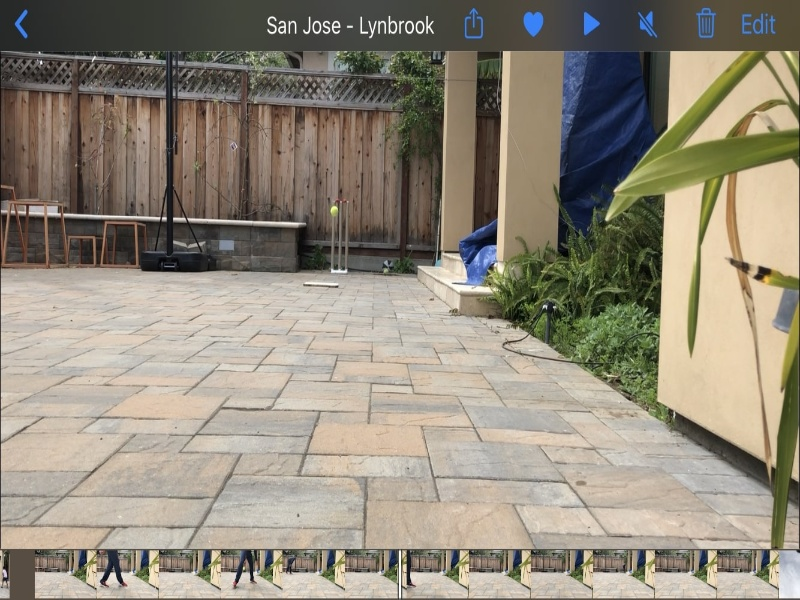tennis ball: (328, 203, 339, 216)
